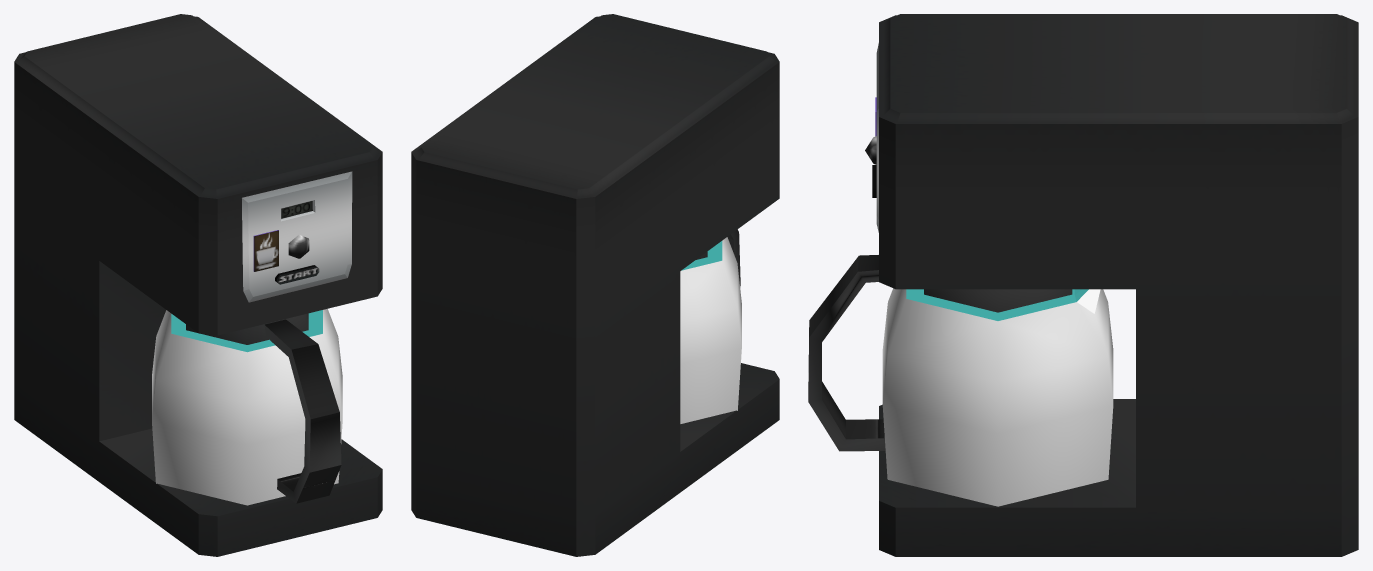
The model's file is Coffee_Pot.FBX.
3 views of the same model, side by side, from view 1: azimuth 30°, elevation 25°; view 2: azimuth 150°, elevation 25°; view 3: azimuth 270°, elevation 25° (orthographic). The views are drawn at different scales.
Parts seen in each view (by area): view 1: Coffee_Maker; view 2: Coffee_Maker; view 3: Coffee_Maker.
Part boxes in pixels (x1,y1,x2,y2): Coffee_Maker: (14, 14, 382, 556); Coffee_Maker: (411, 14, 779, 556); Coffee_Maker: (808, 14, 1358, 556).
Bounding box in the file's own units: 36.23 × 65.93 × 74.83.
